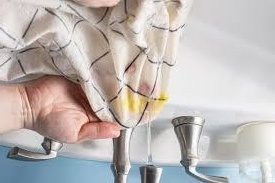mustard: (120, 91, 137, 114), (144, 96, 161, 113)
